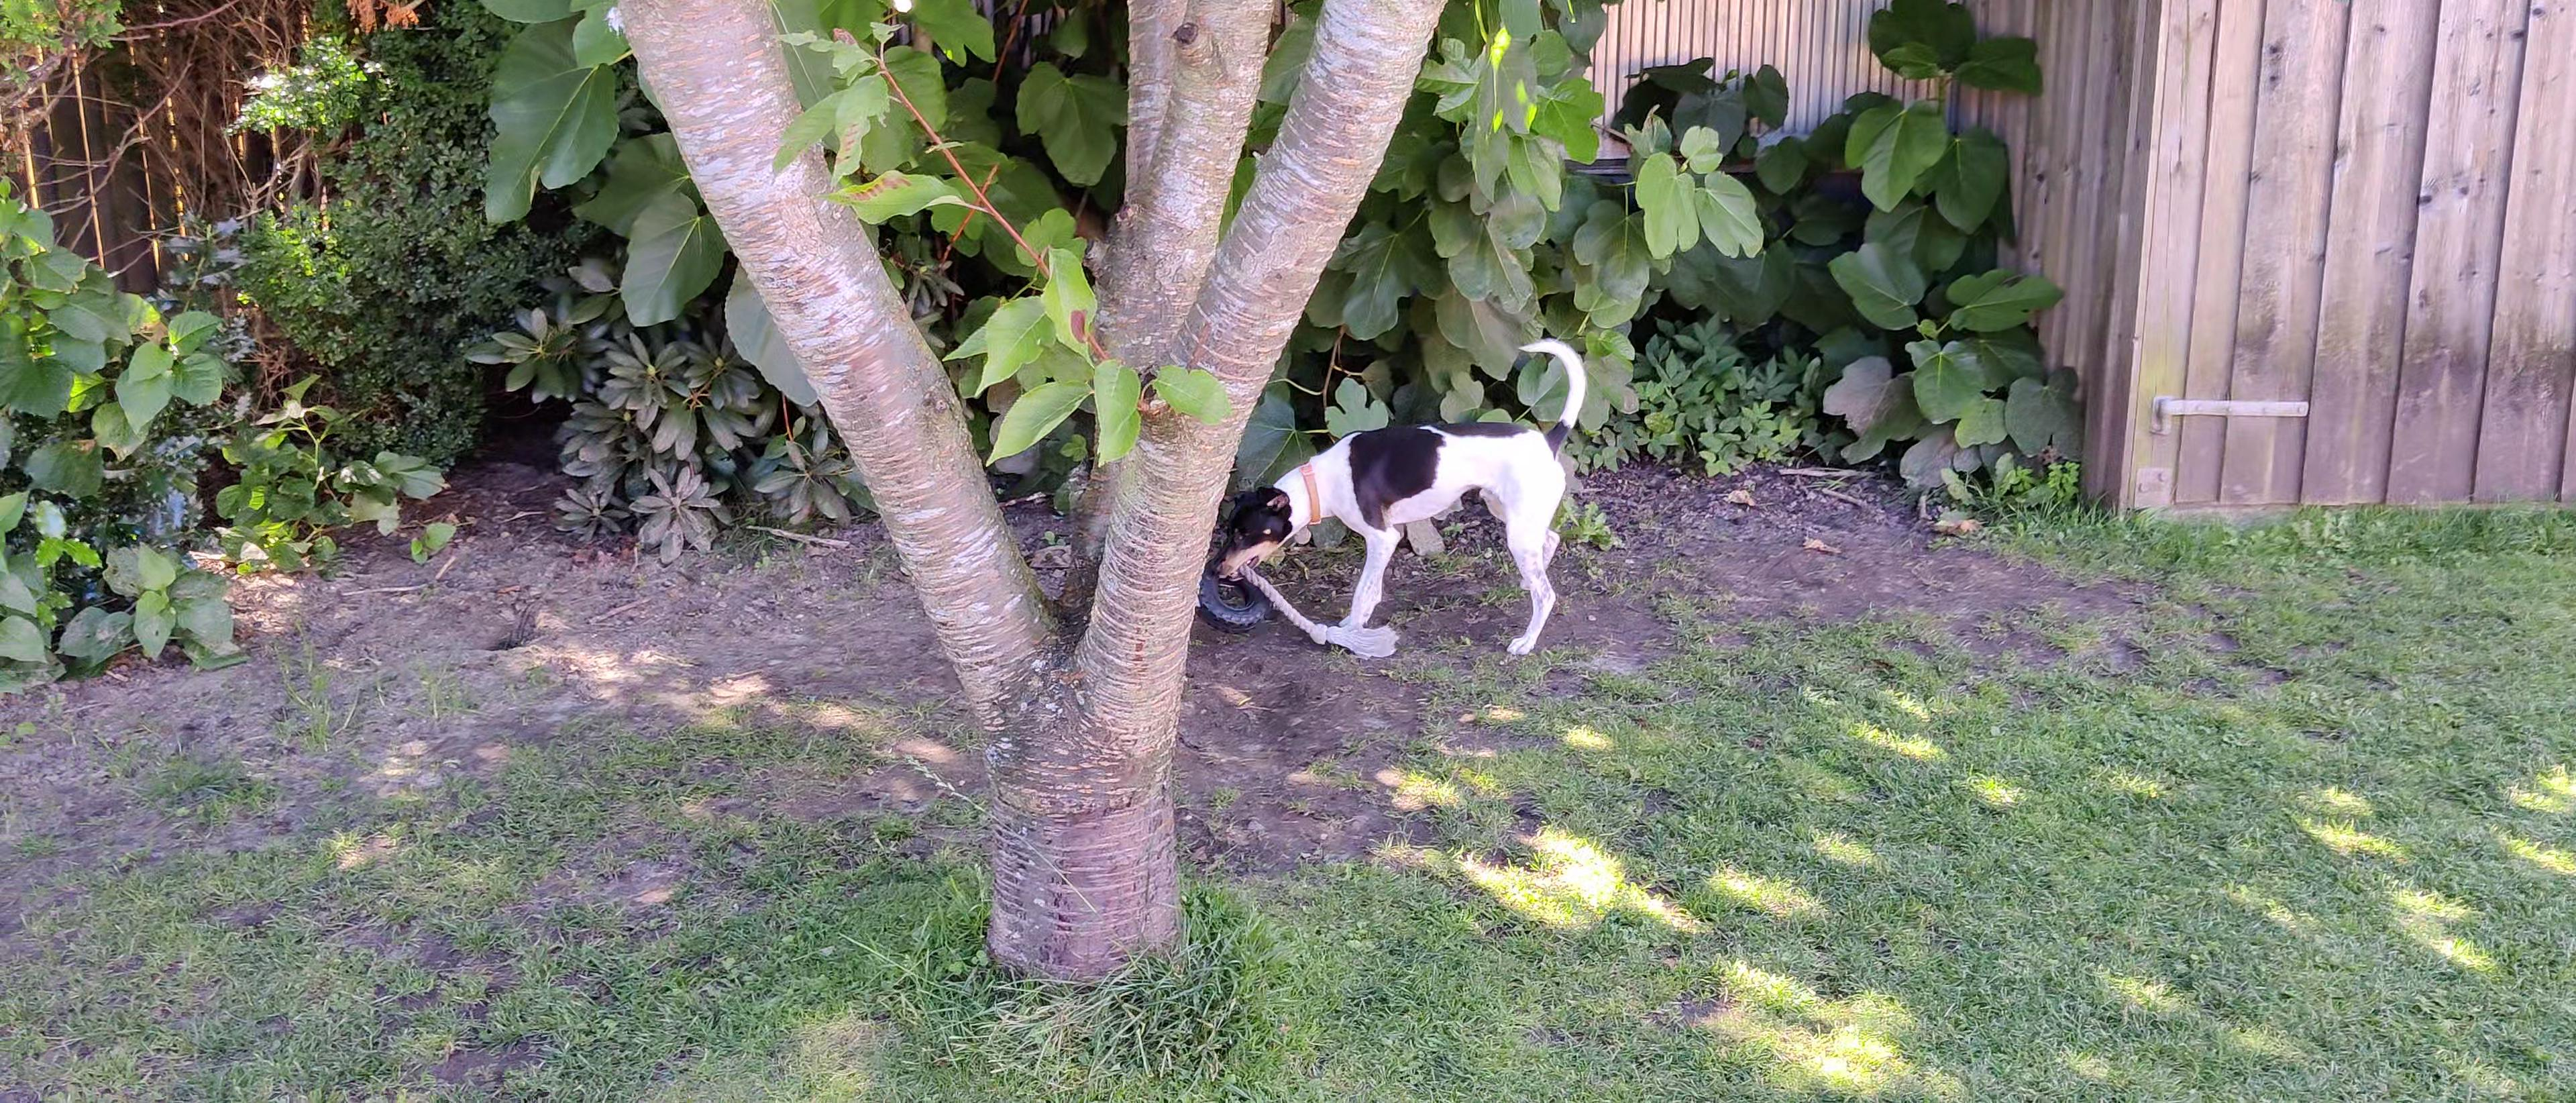Dog: (1204, 335, 1589, 658)
